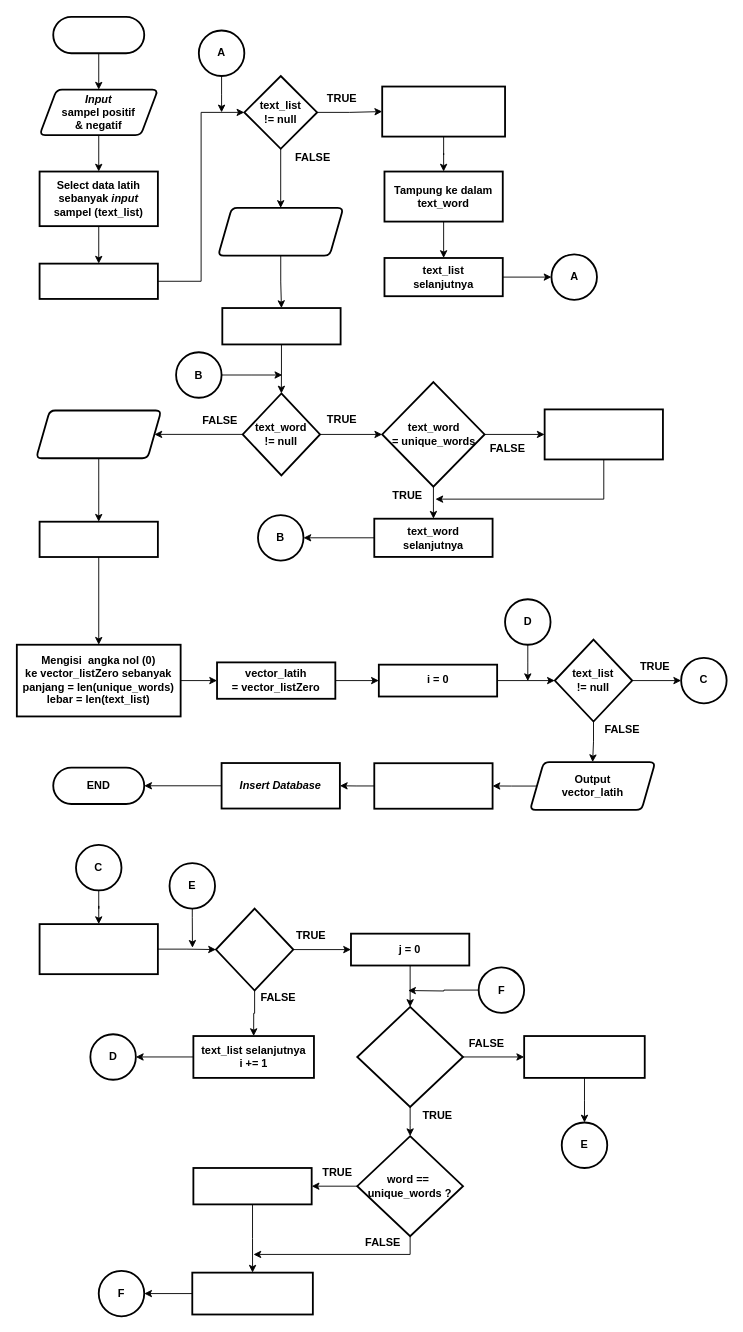
This 743x1332 diagram has some shape labels left out. The shapes that lost their labels are listed below. From the top down, each one's centre as x and y in pixels, then its label:
(x=98, y=34): START
(x=443, y=111): Pecah text_list menjadi satuan kata
(x=280, y=231): Output list kata ( text_word )
(x=98, y=280): text_word = []
(x=281, y=326): unique_words = []
(x=98, y=434): Output fitur kata ( unique_words )
(x=603, y=434): Tampung ke dalam unique_words
(x=98, y=538): vector_listZero = []
(x=433, y=785): Simpan ke dalam file JSON
(x=98, y=949): Pecah menjadi satuan kata (word)
(x=254, y=949): word != null
(x=409, y=1056): unique_words ada?
(x=584, y=1056): word selanjutnya
(x=252, y=1186): vector_latih [i][j] += 1
(x=252, y=1293): unique_words selanjutnya j += 1
